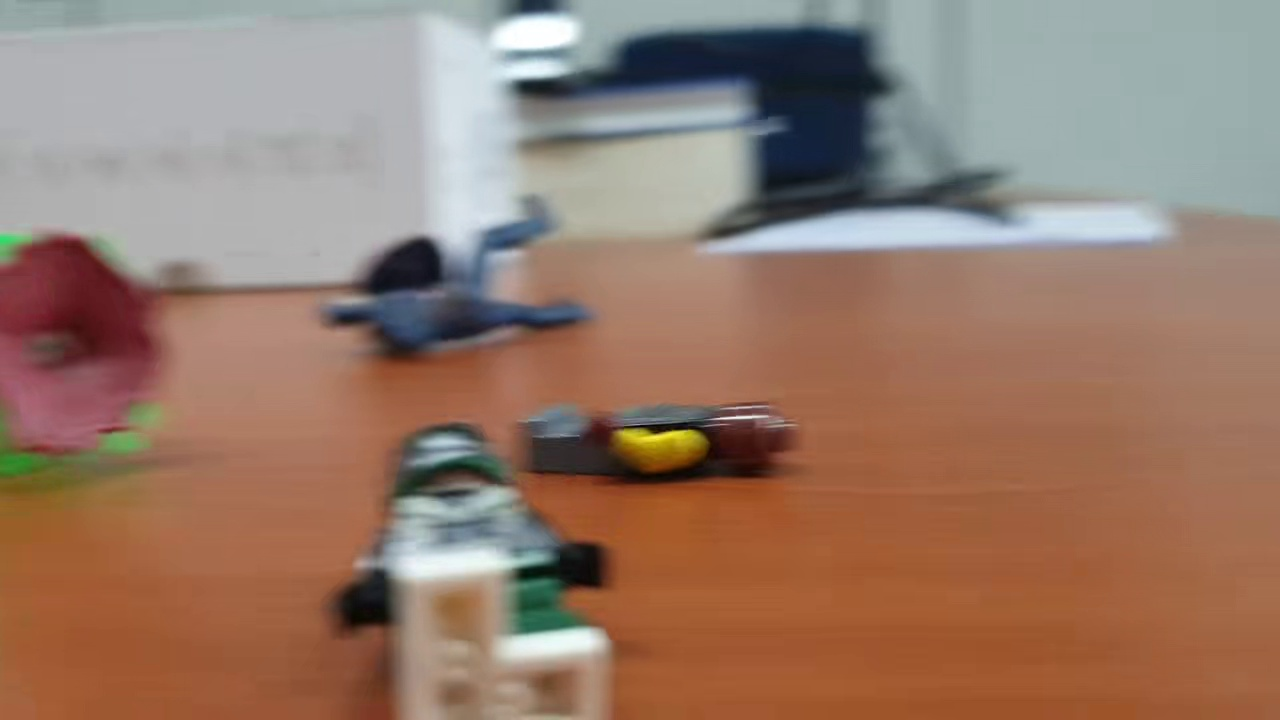people: (322, 418, 623, 720), (324, 194, 588, 361), (508, 396, 803, 488)
